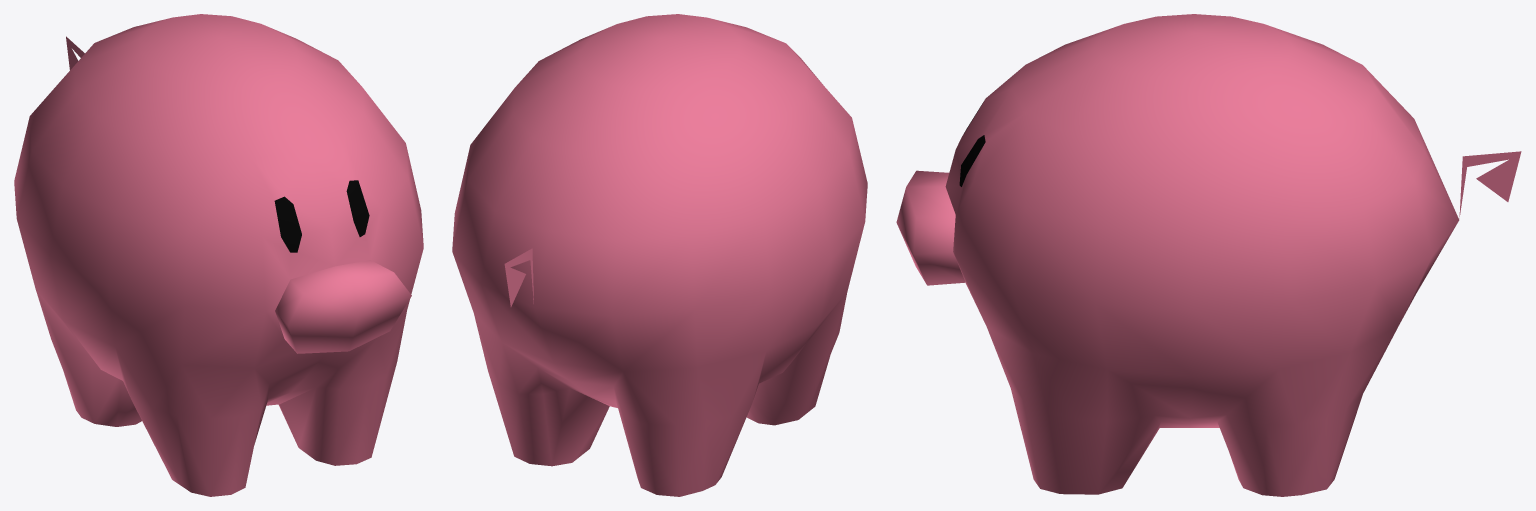
The model's file is pigball.glb.
3 views of the same model, side by side, from view 1: azimuth 30°, elevation 25°; view 2: azimuth 150°, elevation 25°; view 3: azimuth 270°, elevation 25° (orthographic). The views are drawn at different scales.
Visible parts, largest first — view 1: Sphere; view 2: Sphere; view 3: Sphere.
Part boxes in pixels (x1=…): Sphere: x1=14, y1=14, x2=423, y2=496; Sphere: x1=452, y1=14, x2=867, y2=496; Sphere: x1=896, y1=14, x2=1521, y2=496.
Bounding box in the file's own units: 0.2 × 0.2188 × 0.2997.
